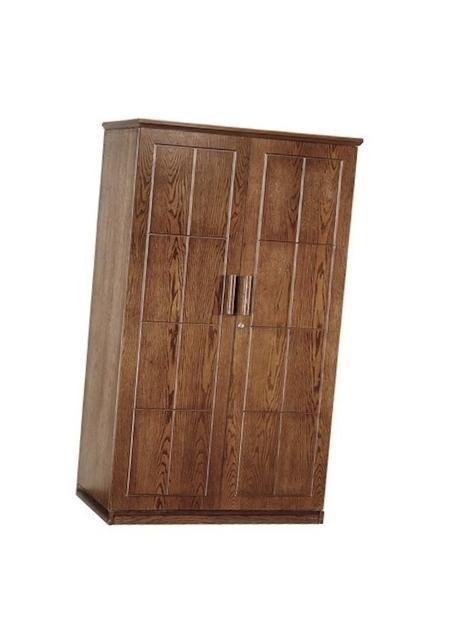Armario: (79, 117, 363, 537)
